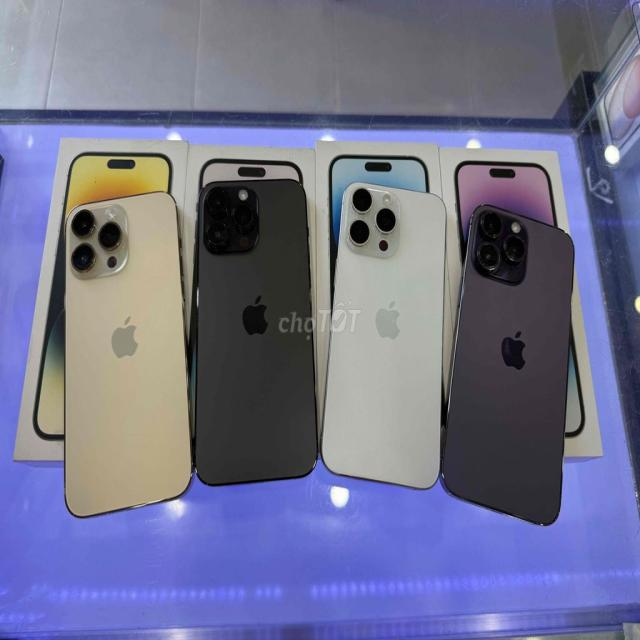gen_14: (62, 184, 198, 524)
